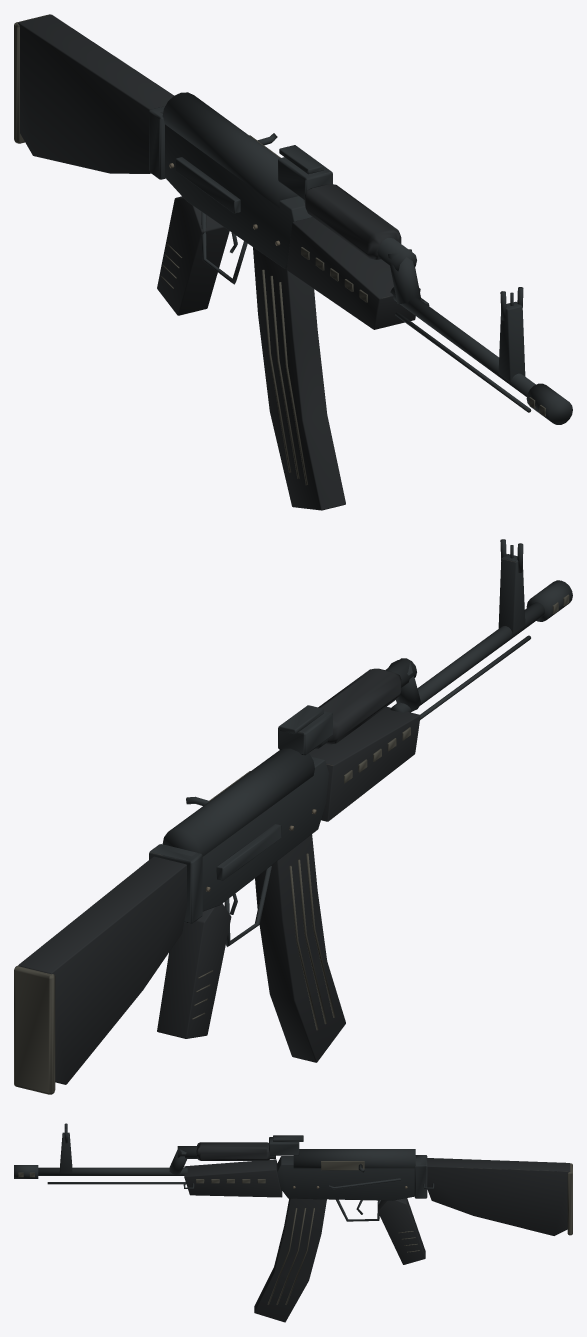
3 views of the same model, one above another, from view 1: azimuth 30°, elevation 25°; view 2: azimuth 150°, elevation 25°; view 3: azimuth 270°, elevation 25° (orthographic). The views are drawn at different scales.
Parts seen in each view (by area): view 1: AK74M_Separate_Weapon, AK74M_Magazine; view 2: AK74M_Separate_Weapon, AK74M_Magazine; view 3: AK74M_Separate_Weapon, AK74M_Magazine.
Boxes of the visible parts, x1,y1,x2,y2 form: AK74M_Separate_Weapon: [14, 14, 572, 424]; AK74M_Magazine: [253, 247, 345, 510]; AK74M_Separate_Weapon: [14, 539, 572, 1094]; AK74M_Magazine: [255, 834, 345, 1062]; AK74M_Separate_Weapon: [14, 1123, 572, 1264]; AK74M_Magazine: [254, 1198, 326, 1322].
Bounding box in the file's own units: 0.0717 × 0.3598 × 0.9435.
Materials: 1 (1 with a texture image).
